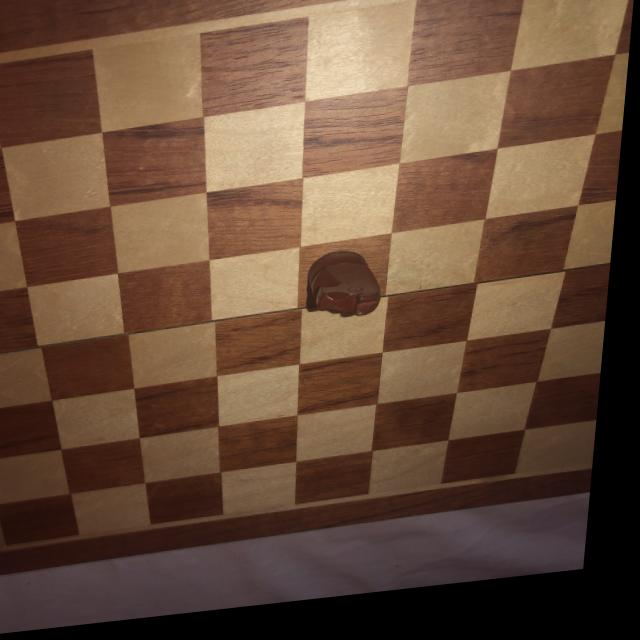black_knight: (306, 253, 394, 333)
